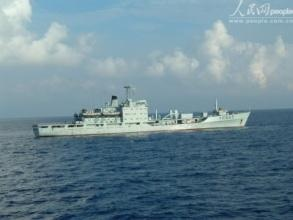warship: (30, 82, 251, 140)
